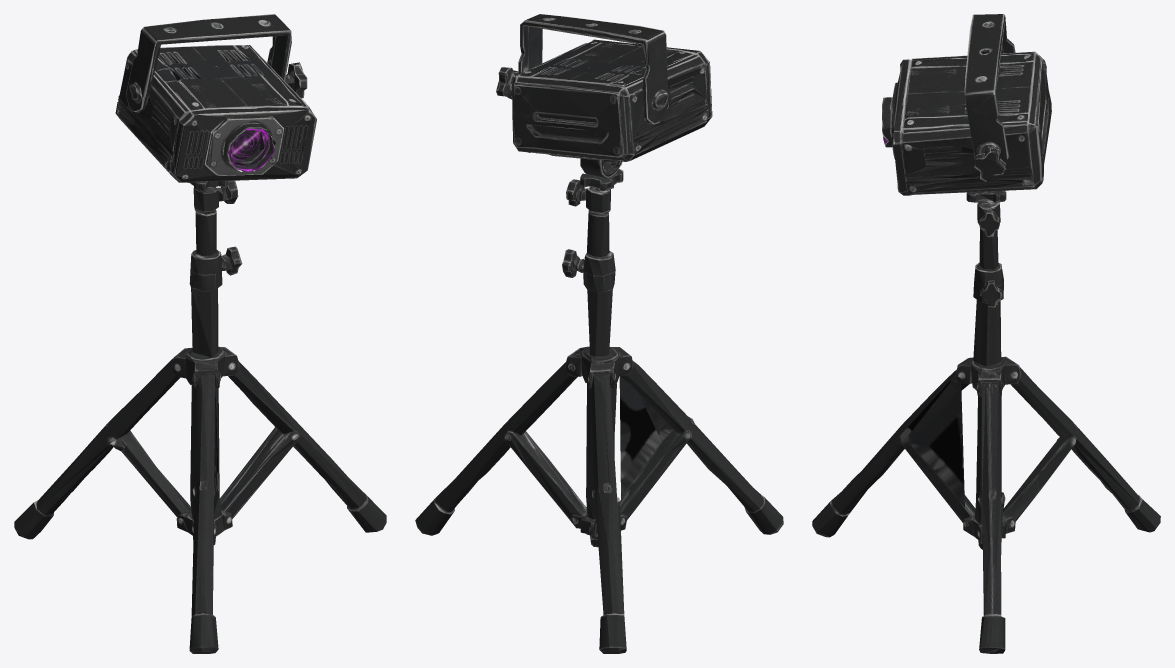
File: laser_new.glb
3 views of the same model, side by side, from view 1: azimuth 30°, elevation 25°; view 2: azimuth 150°, elevation 25°; view 3: azimuth 270°, elevation 25° (orthographic). The views are drawn at different scales.
Parts seen in each view (by area): view 1: output_unwrapped; view 2: output_unwrapped; view 3: output_unwrapped.
Boxes of the visible parts, x1,y1,x2,y2 form: output_unwrapped: (14, 14, 386, 653); output_unwrapped: (415, 14, 783, 653); output_unwrapped: (812, 14, 1160, 653).
Size of the model in its own units: 1.04 by 1.9 by 1.12.
1 material, 1 textured.
